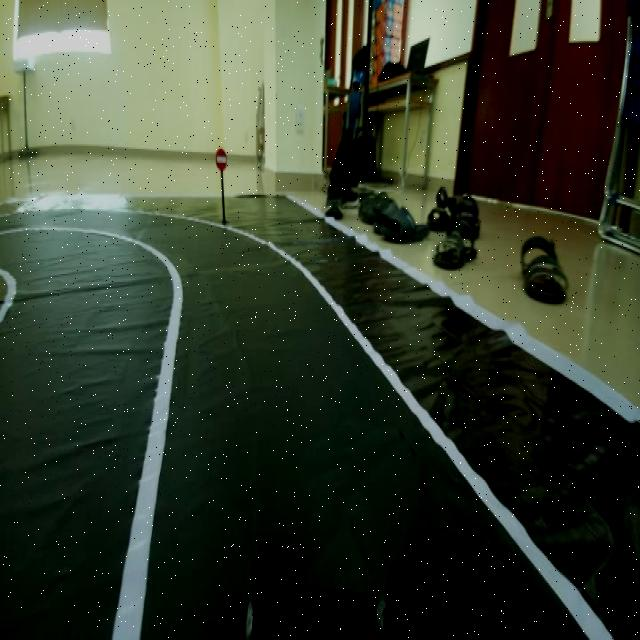no_entry: (214, 141, 229, 173)
